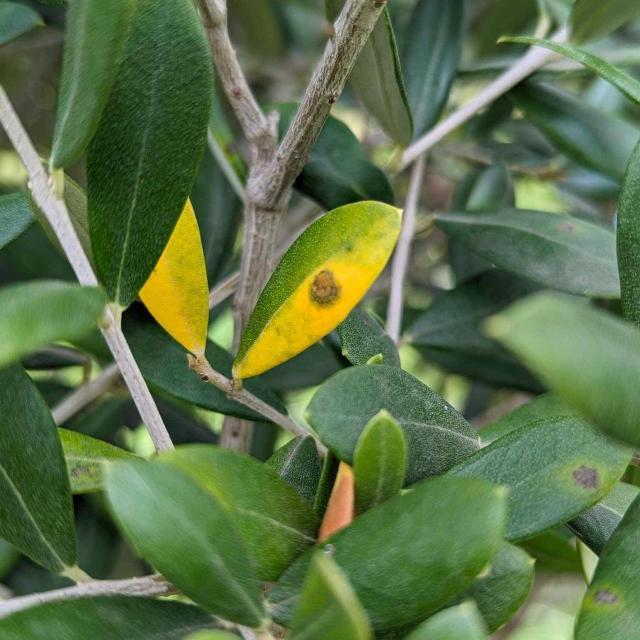OlivePeacockSpot: (232, 201, 402, 385), (139, 198, 208, 354)
